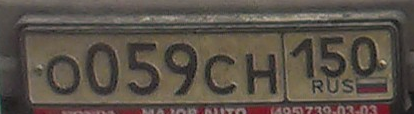character: (121, 39, 162, 95), (163, 40, 199, 98), (85, 39, 120, 97), (243, 48, 281, 99), (45, 52, 84, 95), (204, 53, 238, 95), (316, 33, 348, 76), (348, 35, 377, 78), (289, 36, 316, 81)
